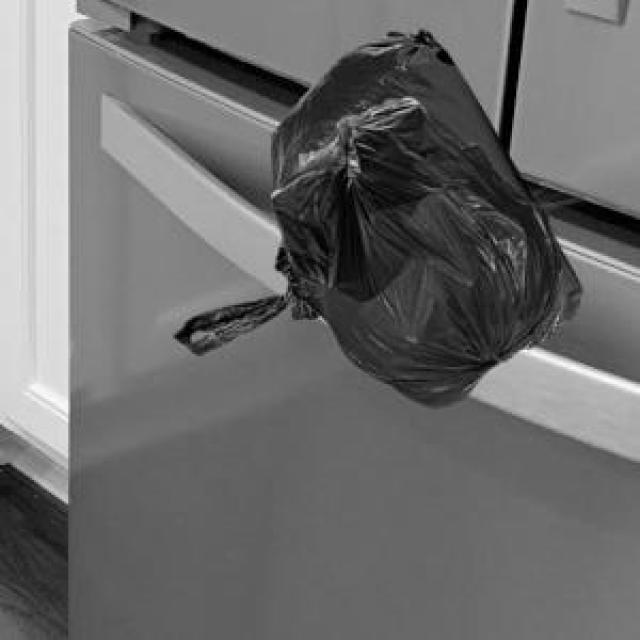miscellaneous trash: (171, 26, 578, 350), (269, 94, 559, 403)
